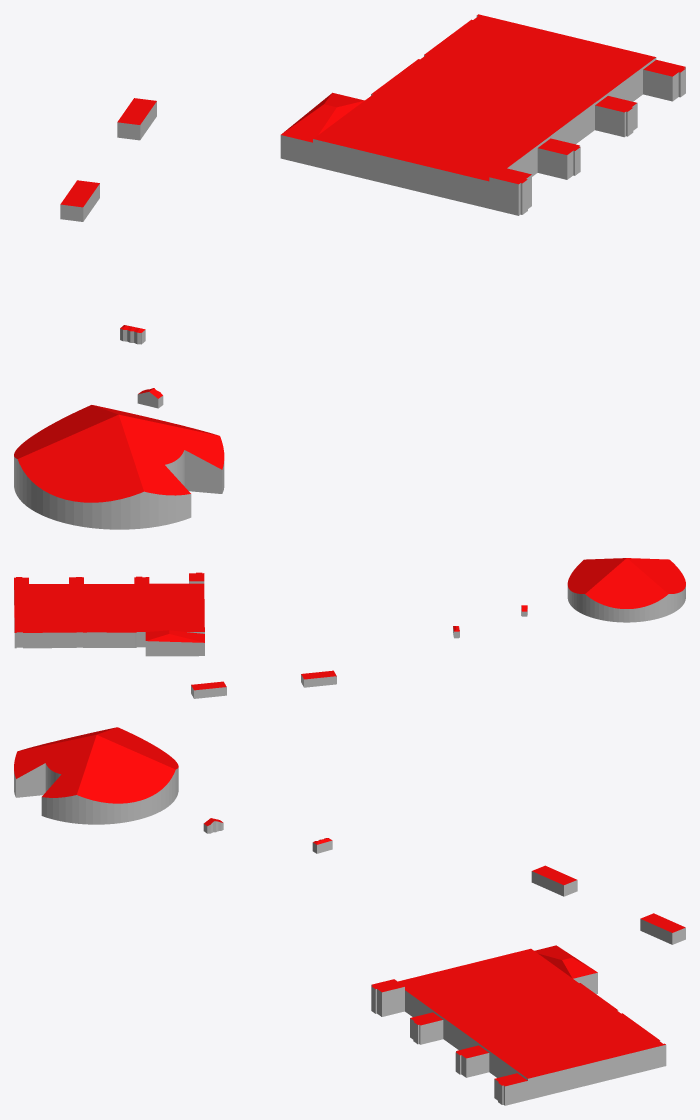
3 views of the same model, one above another, from view 1: azimuth 30°, elevation 25°; view 2: azimuth 150°, elevation 25°; view 3: azimuth 270°, elevation 25° (orthographic). The views are drawn at different scales.
Size of the model in its own units: 203 by 14.85 by 164.
